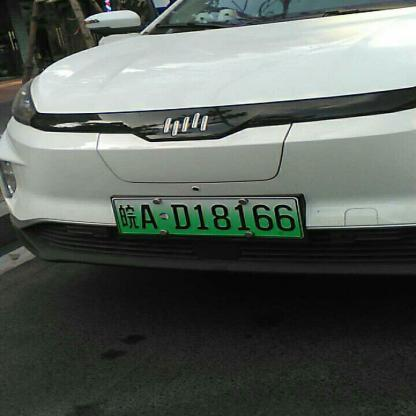lp: (113, 198, 300, 235)
